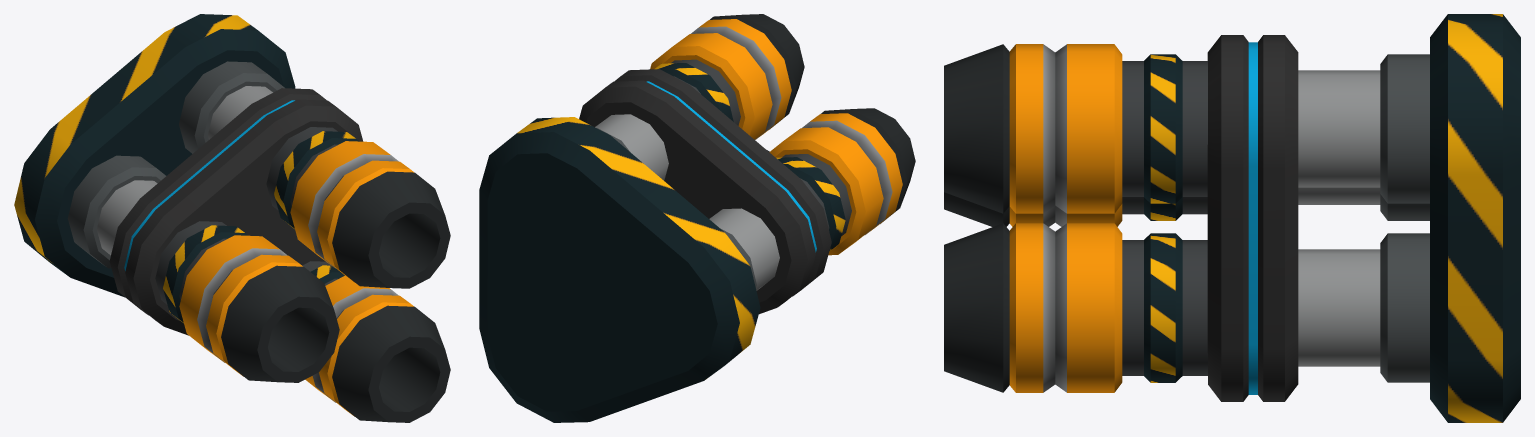
The model's file is Turret_003_Gun_01.fbx.
The picture shows the model from 3 angles, left to right: view 1: azimuth 30°, elevation 25°; view 2: azimuth 150°, elevation 25°; view 3: azimuth 270°, elevation 25°; orthographic projection. The views are drawn at different scales.
Visible parts, largest first — view 1: Turret_003_Gun_01; view 2: Turret_003_Gun_01; view 3: Turret_003_Gun_01.
Part boxes in pixels (bbox=[...]): Turret_003_Gun_01: bbox=[14, 14, 450, 422]; Turret_003_Gun_01: bbox=[479, 14, 915, 422]; Turret_003_Gun_01: bbox=[944, 14, 1520, 422].
Bounding box in the file's own units: 89.66 × 129 × 95.63.
